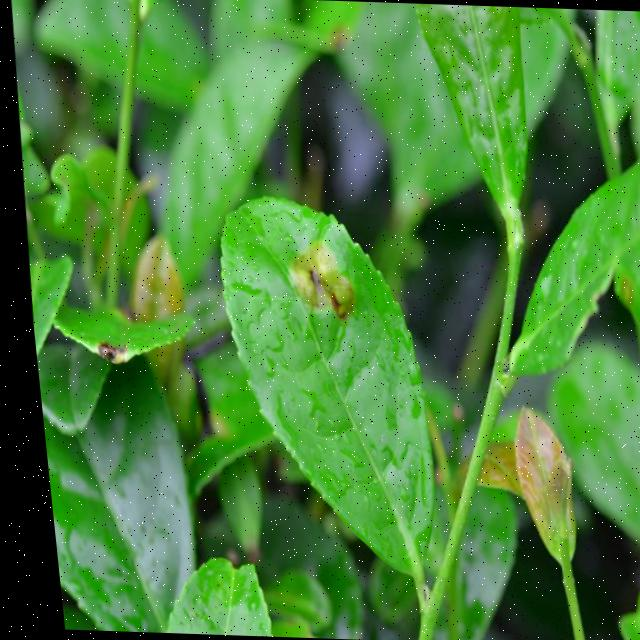Tea cake: (274, 230, 367, 326)
